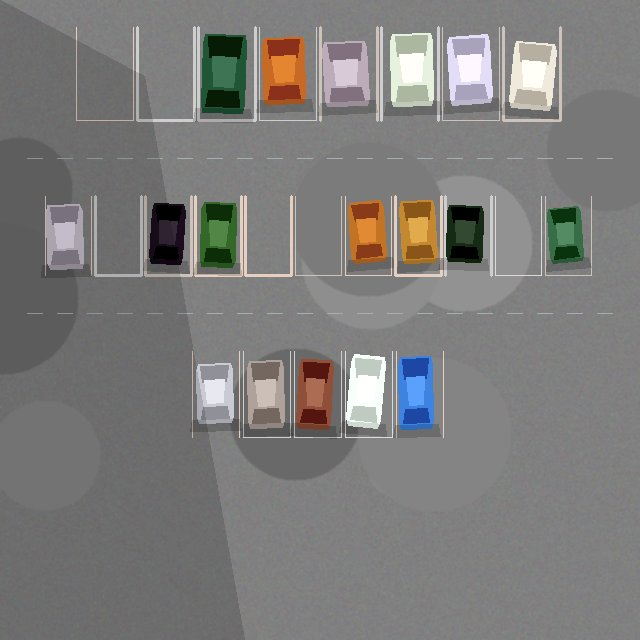space-empty: (76, 27, 133, 120), (137, 27, 194, 120), (95, 196, 141, 275), (245, 196, 291, 275), (295, 196, 341, 275), (495, 196, 541, 275)
space-occupied: (198, 27, 255, 120), (259, 27, 316, 120), (320, 27, 377, 120), (381, 27, 438, 120), (442, 27, 499, 120), (503, 27, 560, 120), (192, 351, 239, 437), (243, 351, 290, 437), (294, 351, 341, 437), (345, 351, 392, 437), (396, 351, 443, 437), (45, 196, 91, 275), (145, 196, 191, 275), (195, 196, 241, 275), (345, 196, 391, 275), (395, 196, 441, 275), (445, 196, 491, 275), (545, 196, 591, 275)
